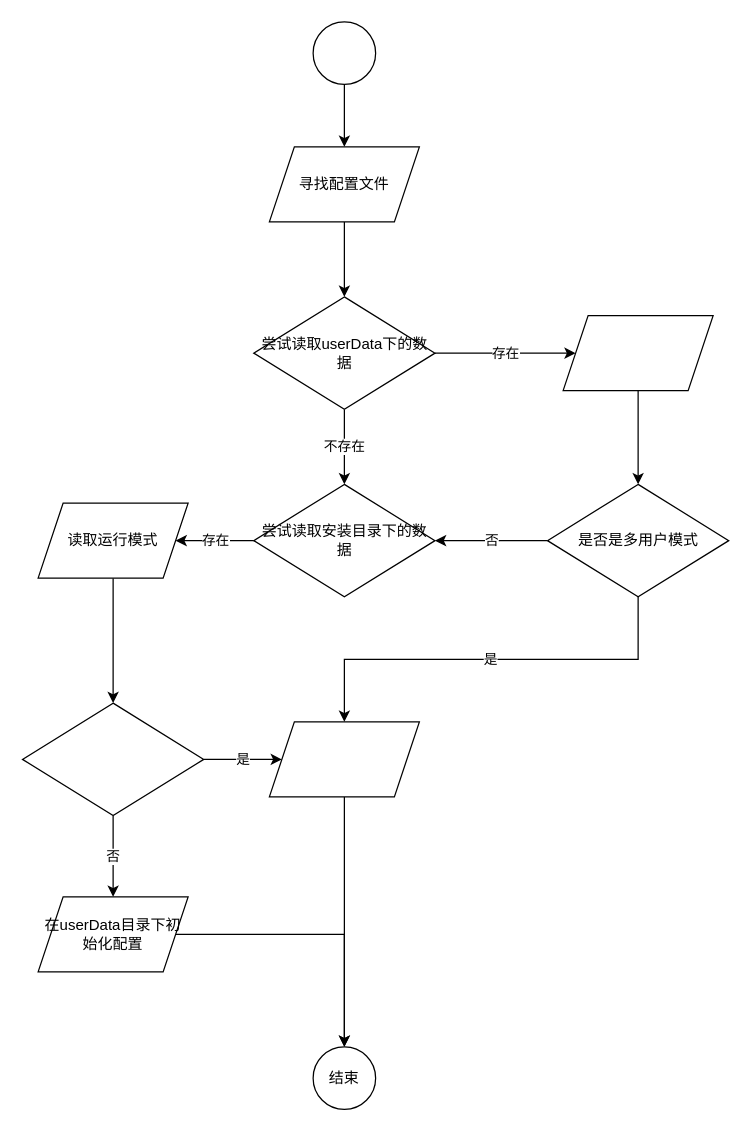
The diagram is 750 pixels wide and 1131 high, and some of its shapes have lost their labels. Each missing label, with the box of its shape:
初始化配置: (312, 21, 376, 84)
是否是单用户模式: (21, 702, 204, 816)
读取应用运行模式: (562, 314, 713, 391)
载入其他配置到实例: (268, 721, 419, 797)
